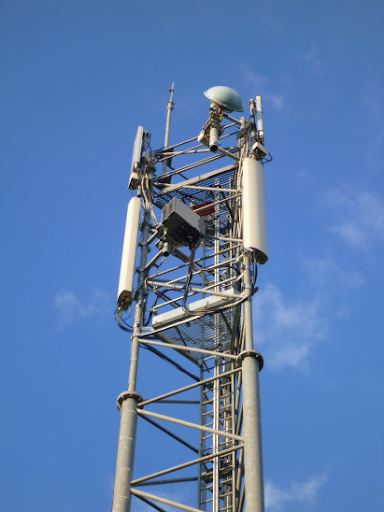a: (241, 160, 268, 256), (117, 197, 134, 306)
